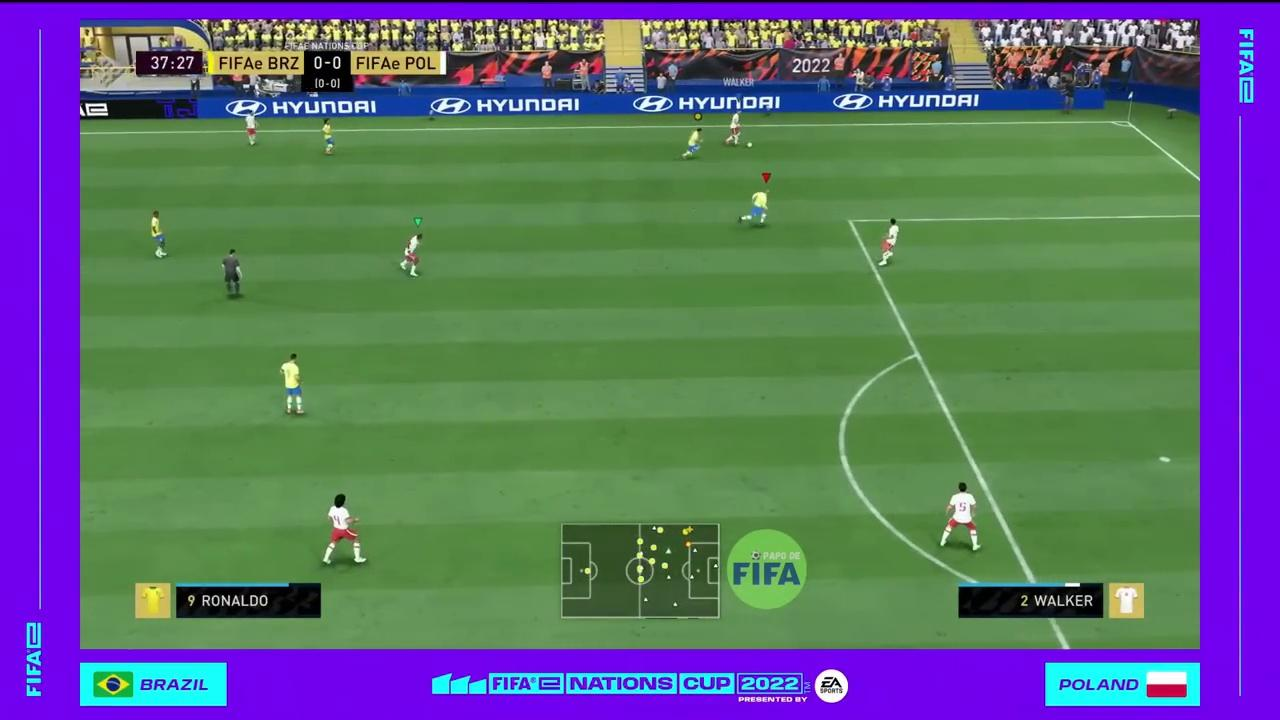scoreboard: (209, 51, 447, 77)
timestamp: (132, 50, 207, 77)
